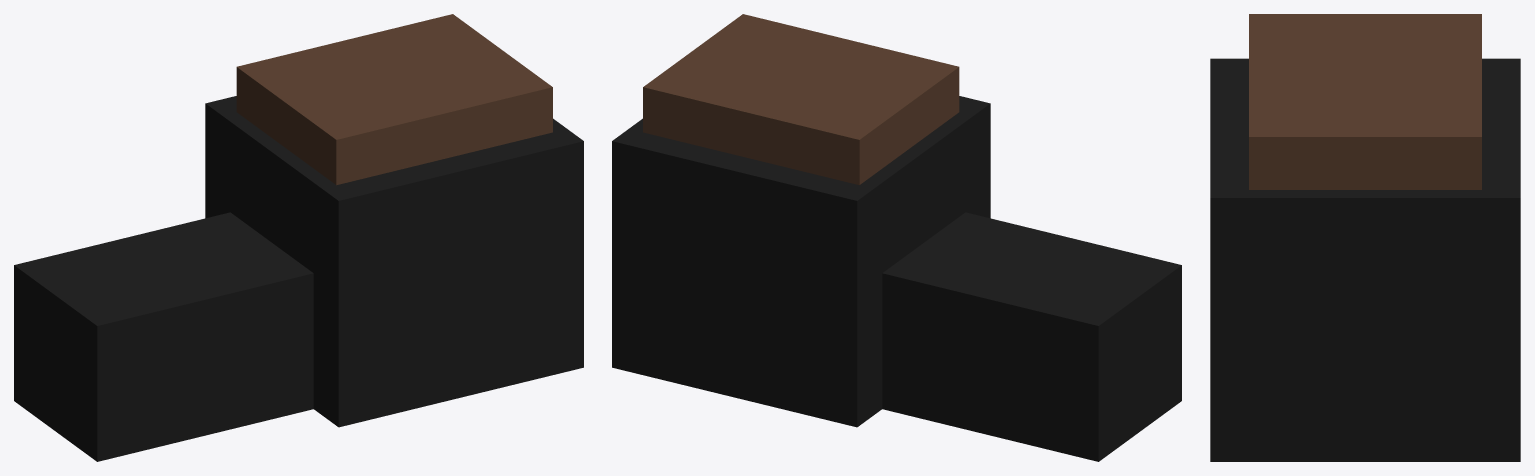
The model's file is abandoned_ambulance_engine.glb.
3 renders of one model, left to right at view 1: azimuth 30°, elevation 25°; view 2: azimuth 150°, elevation 25°; view 3: azimuth 270°, elevation 25°, orthographic. The views are drawn at different scales.
Parts seen in each view (by area): view 1: body:compound; view 2: body:compound; view 3: body:compound.
Part boxes in pixels (x1,y1,x2,y2): body:compound: [14, 14, 583, 461]; body:compound: [612, 14, 1181, 461]; body:compound: [1210, 14, 1520, 461].
Bounding box in the file's own units: 1 × 0.5625 × 0.5.
